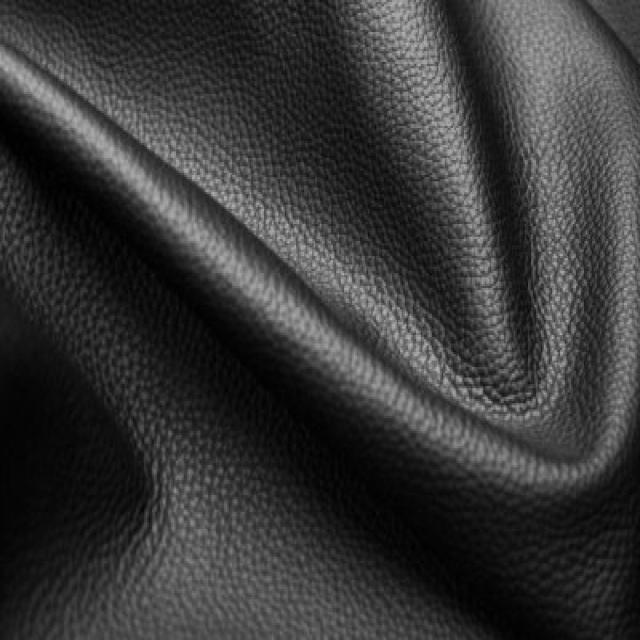Crease: (363, 57, 557, 332), (366, 396, 618, 564)
